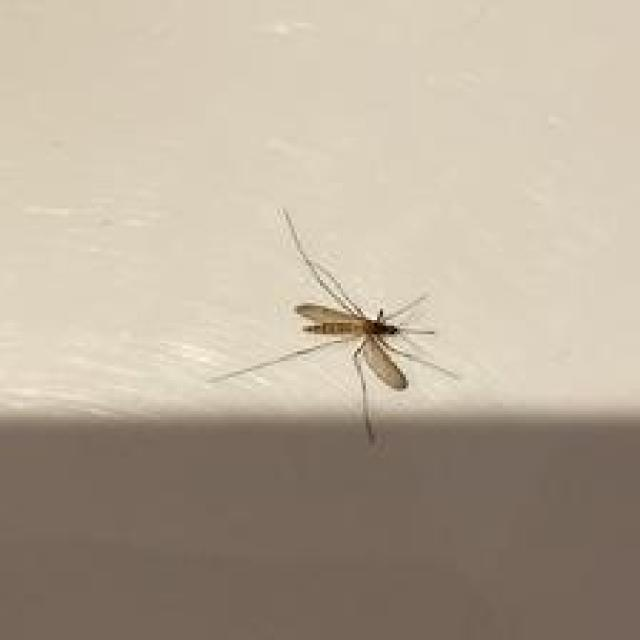Culex: (206, 207, 463, 444)
